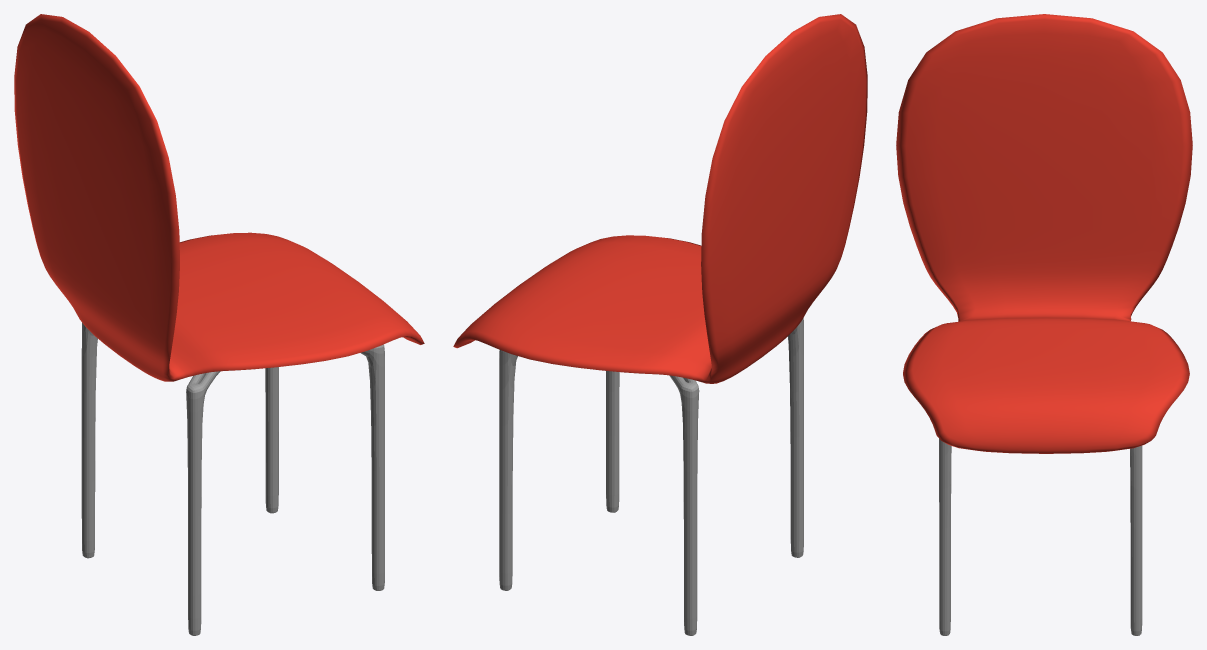
The model's file is chair_dinner.fbx.
3 renders of one model, left to right at view 1: azimuth 30°, elevation 25°; view 2: azimuth 150°, elevation 25°; view 3: azimuth 270°, elevation 25°, orthographic. The views are drawn at different scales.
Parts seen in each view (by area): view 1: Cube, Cube.001; view 2: Cube, Cube.001; view 3: Cube, Cube.001.
Boxes of the visible parts, <box> form: Cube: <box>14,14,424,381</box>; Cube.001: <box>81,322,384,635</box>; Cube: <box>453,14,867,383</box>; Cube.001: <box>499,318,803,635</box>; Cube: <box>896,14,1192,453</box>; Cube.001: <box>939,438,1142,635</box>.
Size of the model in its own units: 244 by 463 by 241.
